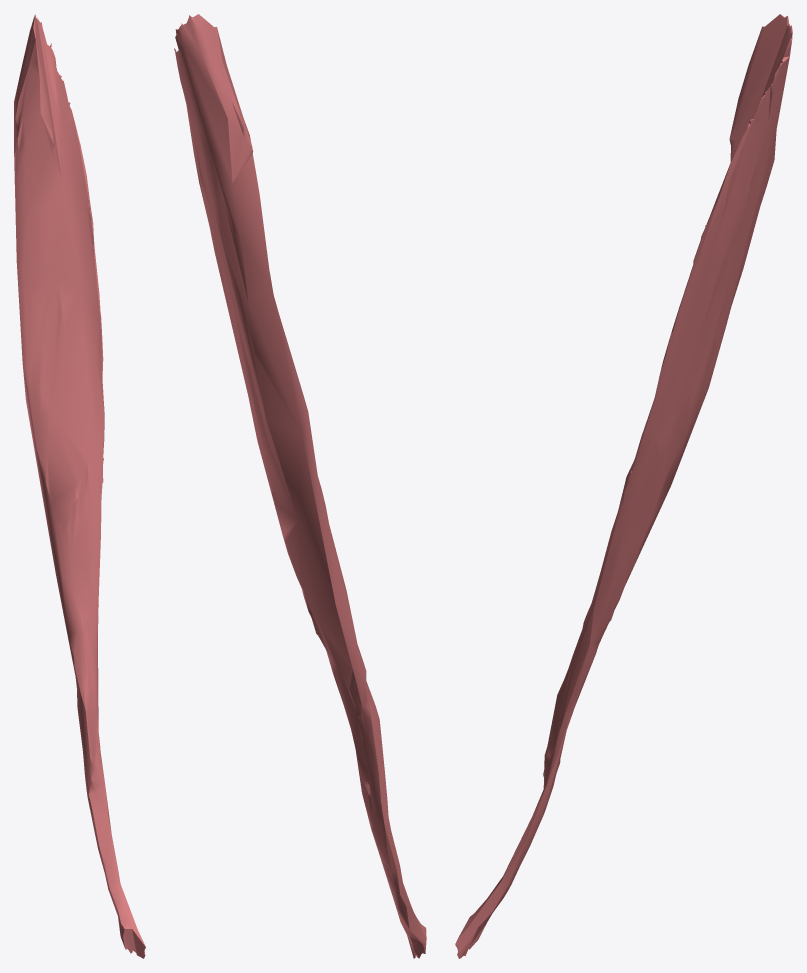
The picture shows the model from 3 angles, left to right: view 1: azimuth 30°, elevation 25°; view 2: azimuth 150°, elevation 25°; view 3: azimuth 270°, elevation 25°; orthographic projection. The views are drawn at different scales.
Parts seen in each view (by area): view 1: FJ1517; view 2: FJ1517; view 3: FJ1517.
Part boxes in pixels (box(x1,y1,x2,y2)): FJ1517: box(14, 14, 145, 958); FJ1517: box(174, 14, 426, 958); FJ1517: box(455, 14, 792, 958).
Bounding box in the file's own units: 0.0168 × 0.1818 × 0.0578.
